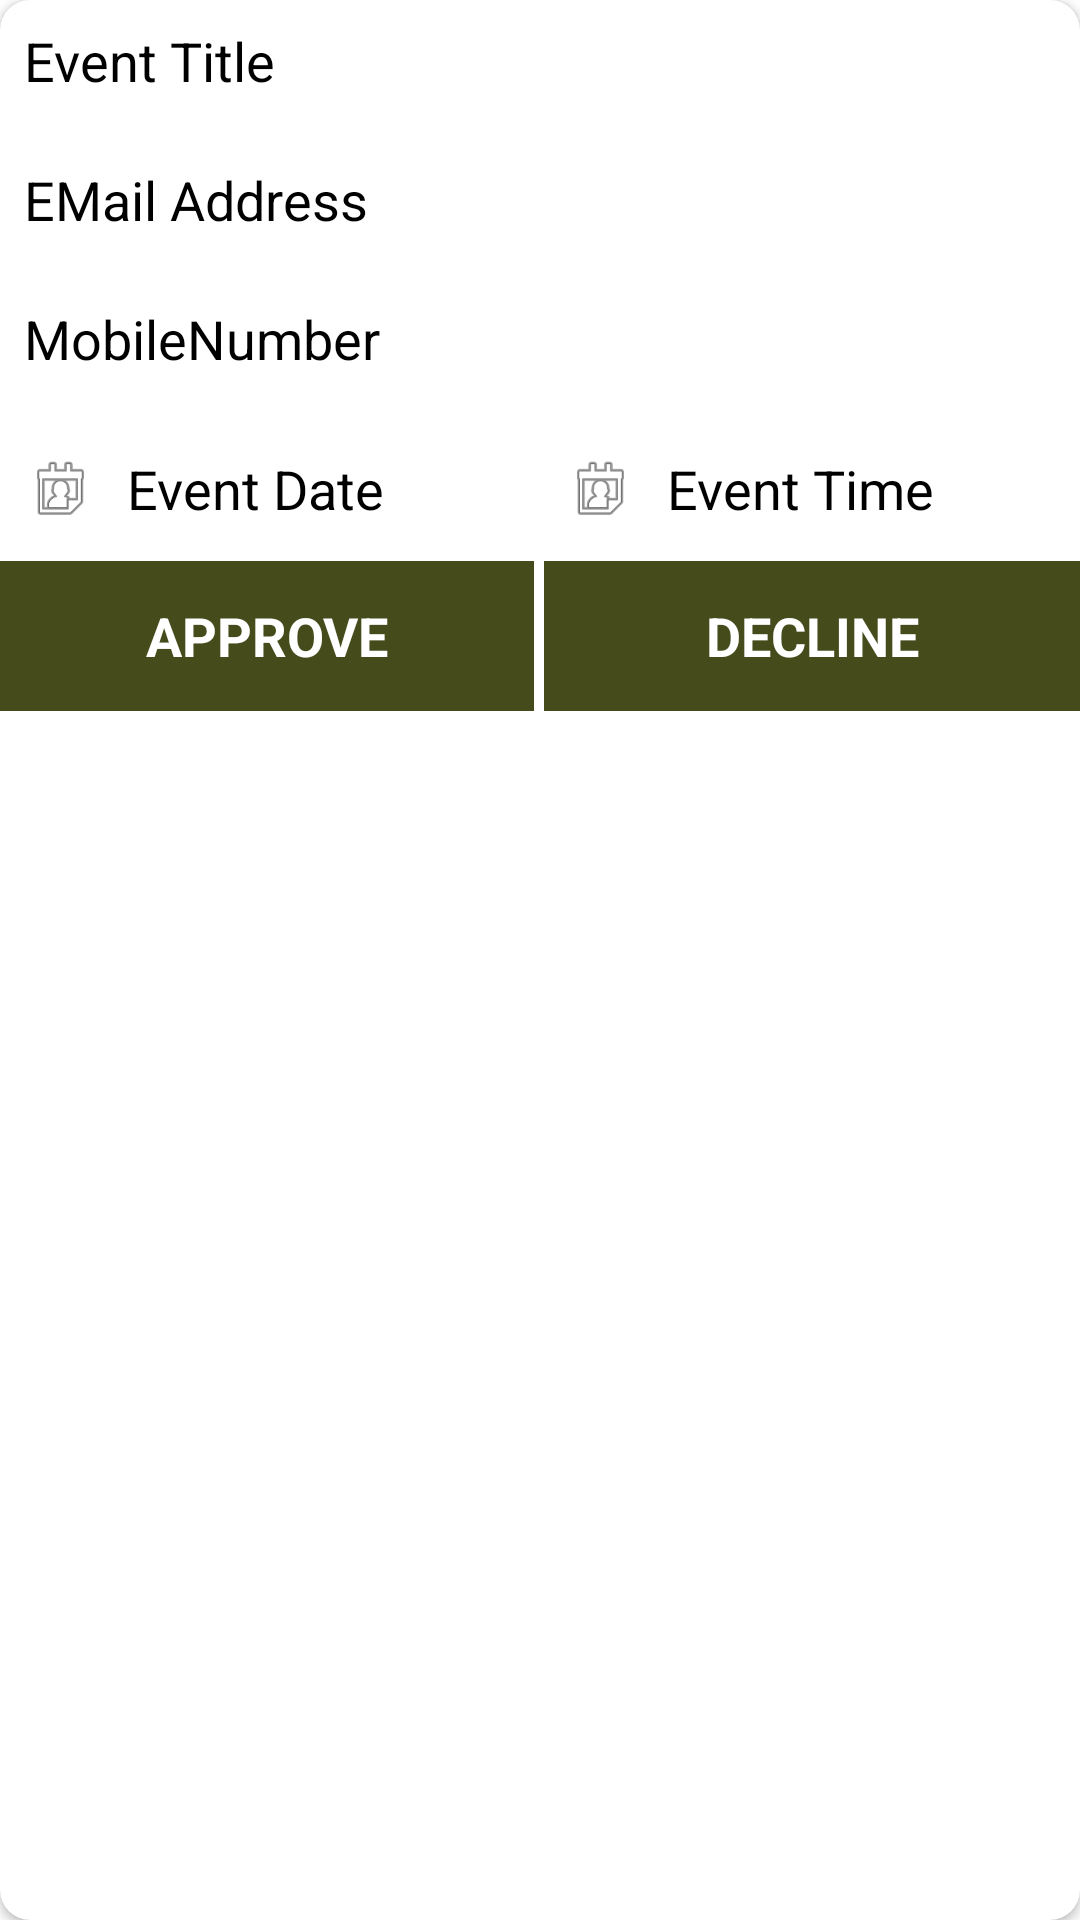

Point at icon controls on the screen. Image size 1080 × 1920, points as (x=x, y=y).
calendar: (x=60, y=488), (x=600, y=488)
